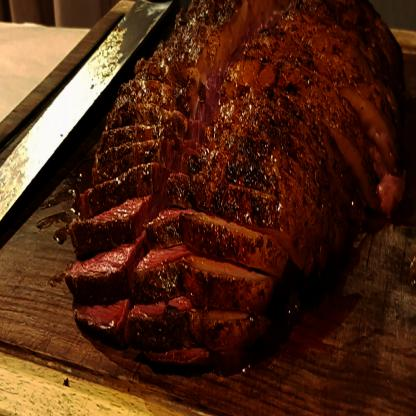Carne: (238, 90, 331, 175), (113, 303, 274, 344), (131, 253, 275, 291), (138, 213, 295, 245), (163, 174, 284, 205), (71, 299, 127, 335)
